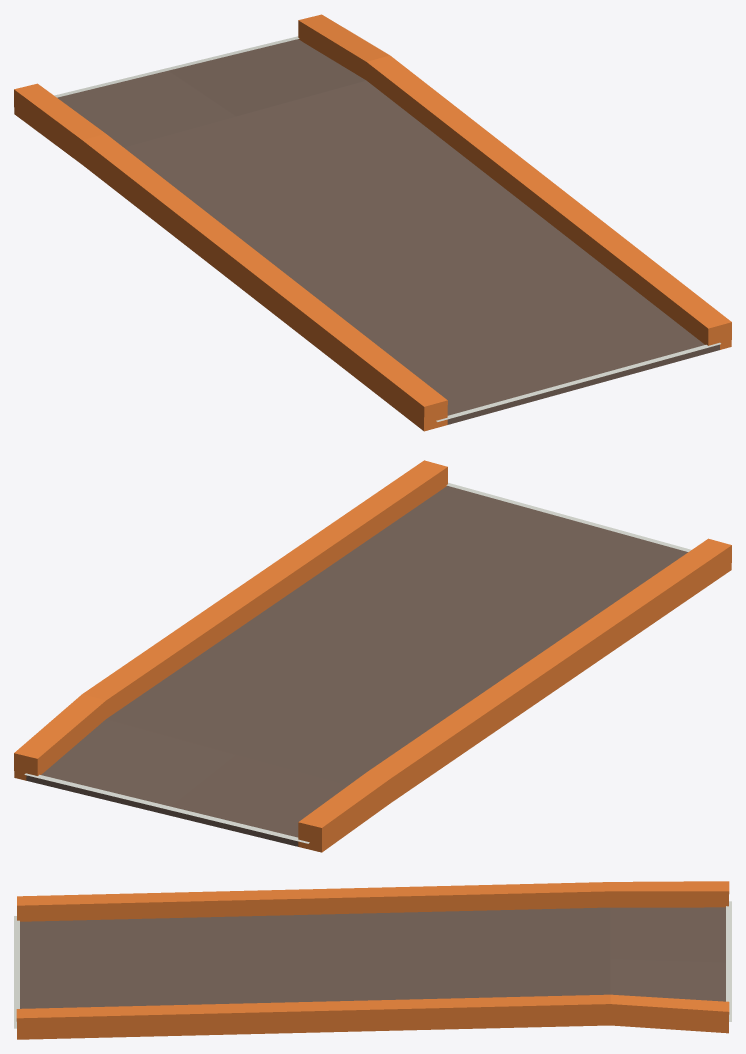
Rendered from SM_MP_Film_C_3_1.fbx.
The picture shows the model from 3 angles, top to bottom: view 1: azimuth 30°, elevation 25°; view 2: azimuth 150°, elevation 25°; view 3: azimuth 270°, elevation 25°; orthographic projection. The views are drawn at different scales.
Visible parts, largest first — view 1: SM_MP_Film_C_3_1; view 2: SM_MP_Film_C_3_1; view 3: SM_MP_Film_C_3_1.
Boxes of the visible parts, bbox=[...] form: SM_MP_Film_C_3_1: bbox=[14, 14, 731, 431]; SM_MP_Film_C_3_1: bbox=[14, 460, 731, 852]; SM_MP_Film_C_3_1: bbox=[14, 881, 731, 1039].
Size of what is drawn, in the model's own units: 260 by 605 by 41.13.
